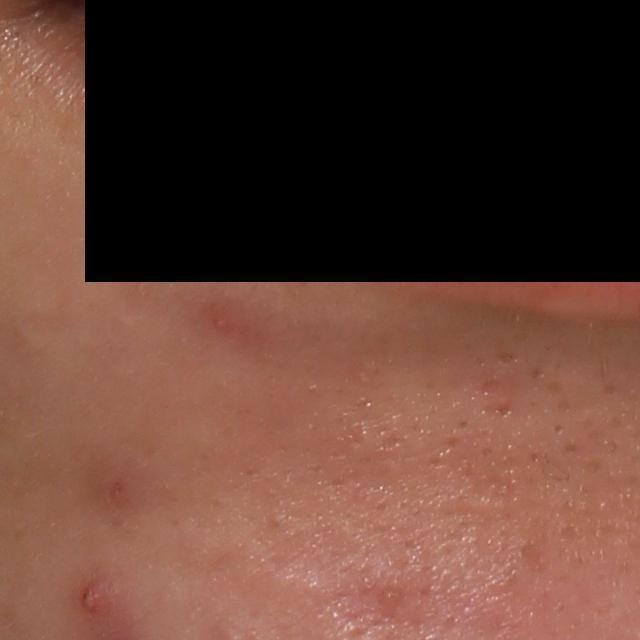papule: (68, 569, 129, 629)
